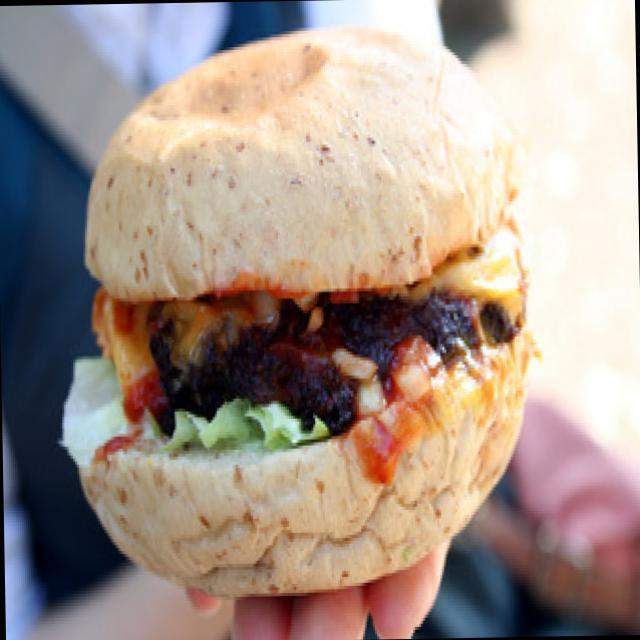Hamburger: (68, 26, 545, 612)
